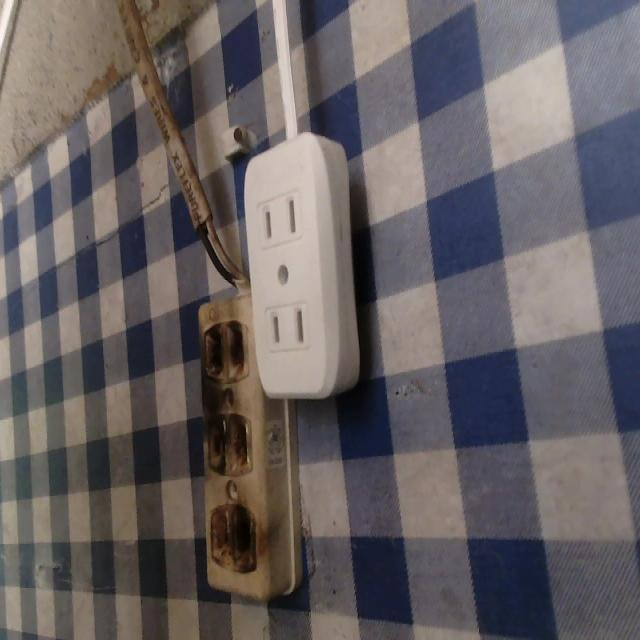-: (204, 500, 259, 573), (202, 316, 250, 384), (204, 408, 252, 476)
